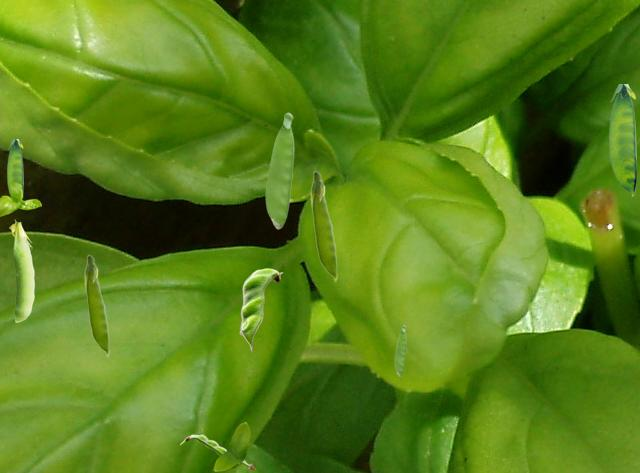pea: (239, 268, 282, 351), (265, 112, 293, 228), (310, 170, 337, 281), (609, 84, 635, 195), (84, 254, 109, 356), (180, 434, 254, 468), (9, 219, 33, 321), (7, 139, 22, 195), (394, 325, 405, 375)
